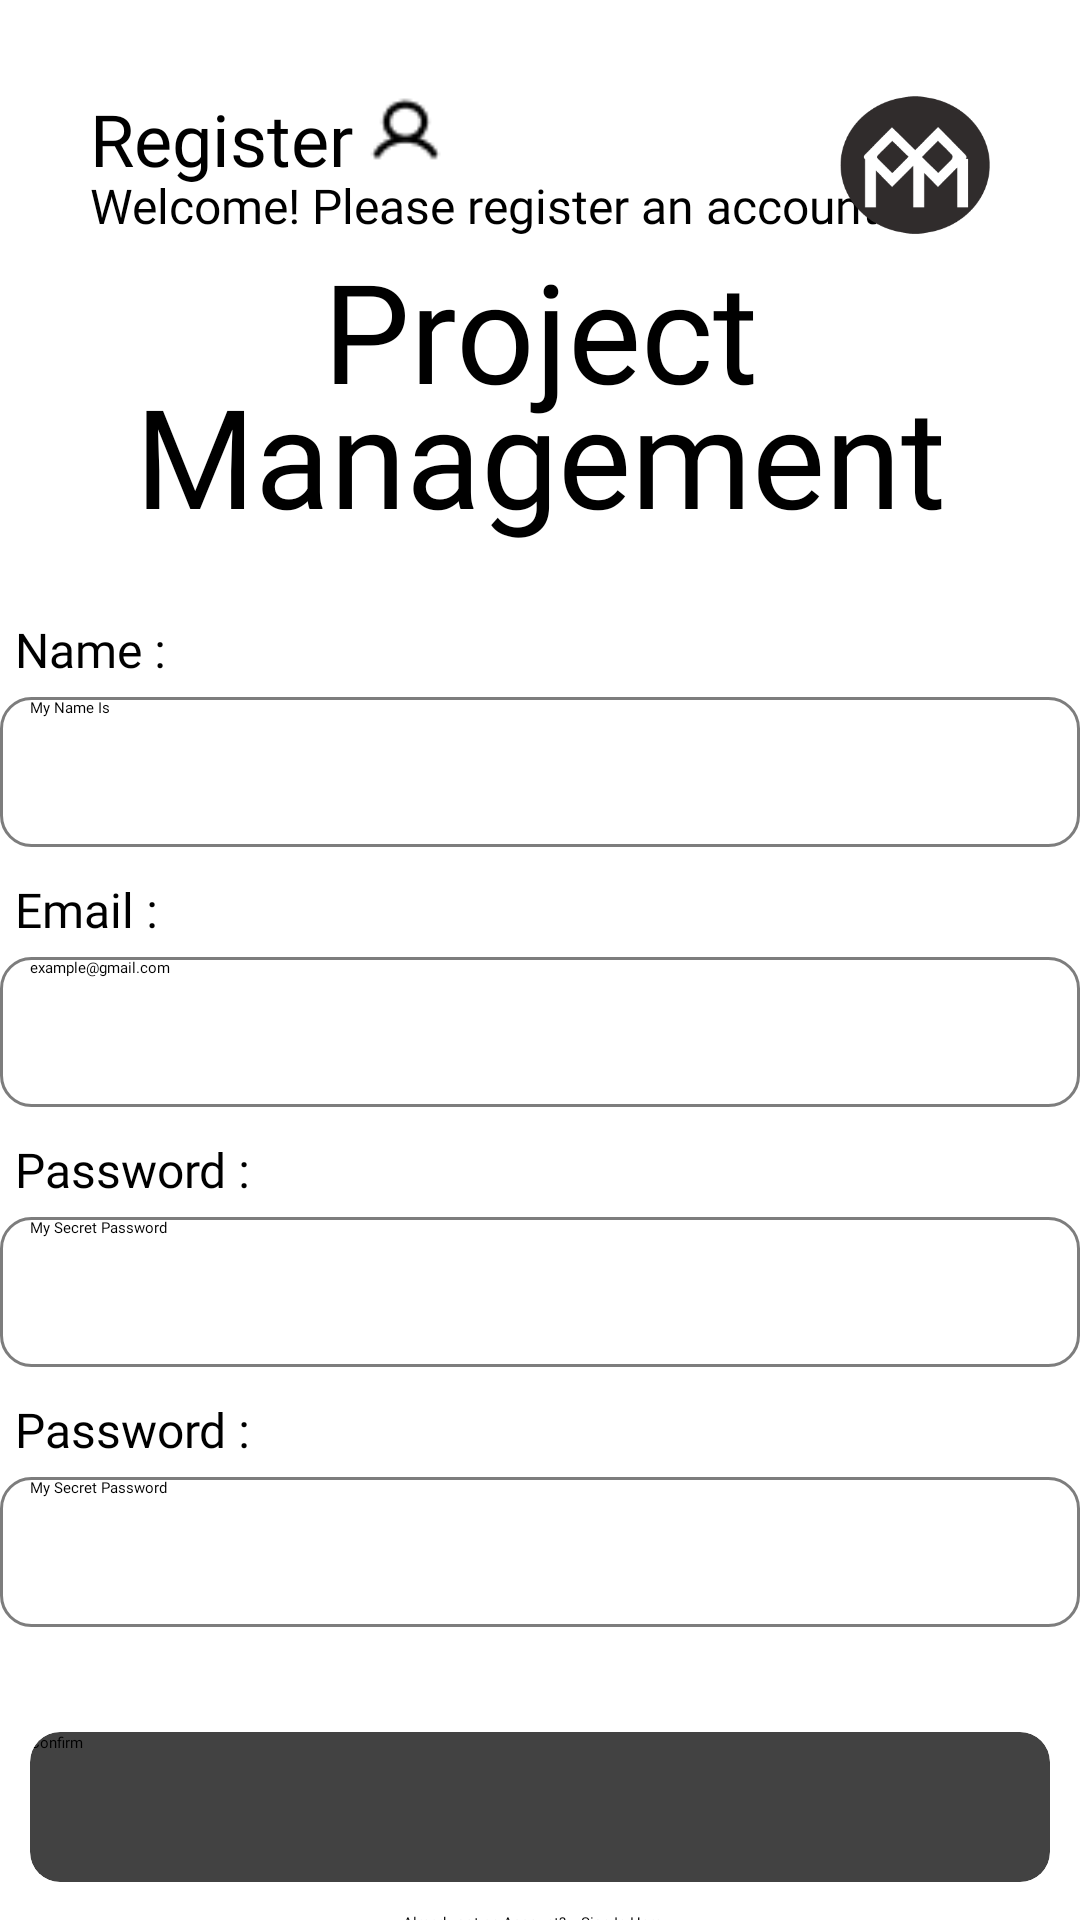

Icons on this 1080 x 1920 Android screen, each with its box as {"x1": x1, "y1": y1, "x2": x2, "y2": y2}:
User Icon: {"x1": 372, "y1": 99, "x2": 439, "y2": 160}
